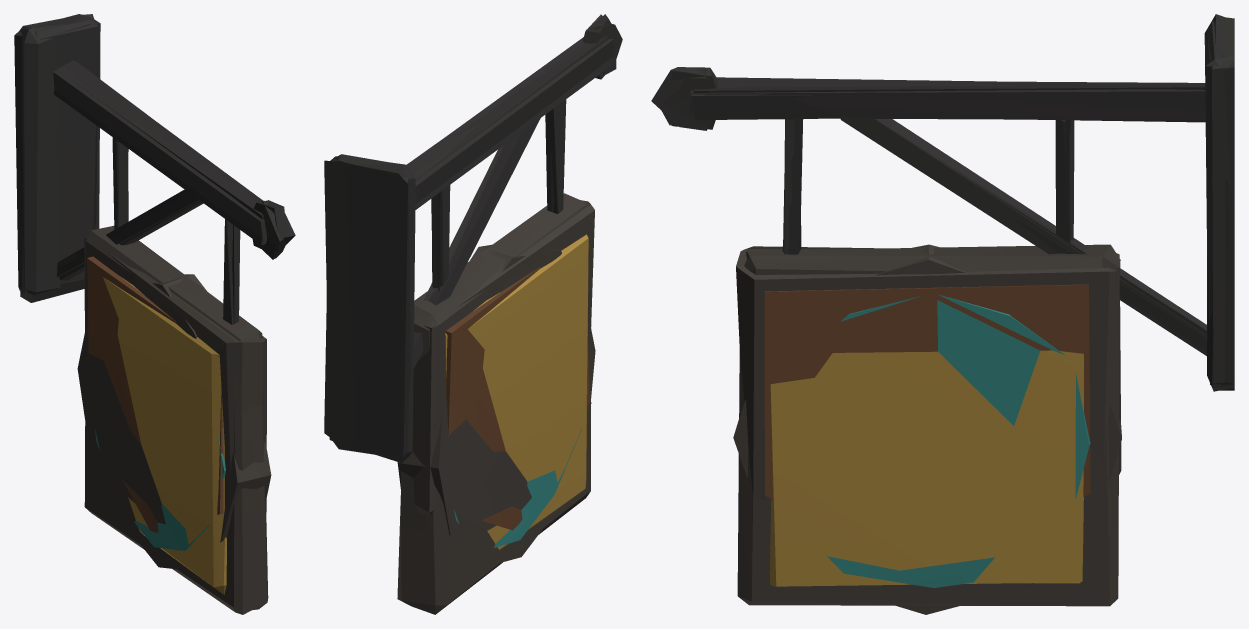
Rendered from sign.hanging.glb.
3 views of the same model, side by side, from view 1: azimuth 30°, elevation 25°; view 2: azimuth 150°, elevation 25°; view 3: azimuth 270°, elevation 25° (orthographic). The views are drawn at different scales.
Parts seen in each view (by area): view 1: sign.hanging.v2.mesh, sign.hanging.v0.mesh, sign.hanging.v1.mesh; view 2: sign.hanging.v2.mesh, sign.hanging.v0.mesh, sign.hanging.v1.mesh; view 3: sign.hanging.v2.mesh, sign.hanging.v0.mesh, sign.hanging.v1.mesh.
Part boxes in pixels (x1,y1,x2,y2): sign.hanging.v2.mesh: (14,15,295,614); sign.hanging.v0.mesh: (20,14,284,532); sign.hanging.v1.mesh: (19,14,286,570); sign.hanging.v2.mesh: (324,14,617,614); sign.hanging.v0.mesh: (327,14,616,530); sign.hanging.v1.mesh: (324,23,622,562); sign.hanging.v2.mesh: (651,21,1234,606); sign.hanging.v0.mesh: (670,14,1234,500); sign.hanging.v1.mesh: (661,16,1234,614).
Bounding box in the file's own units: 0.1326 × 0.7419 × 0.6863.
